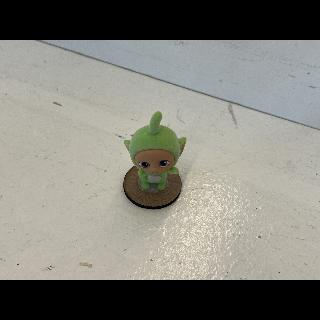teletubby: (124, 111, 186, 191)
